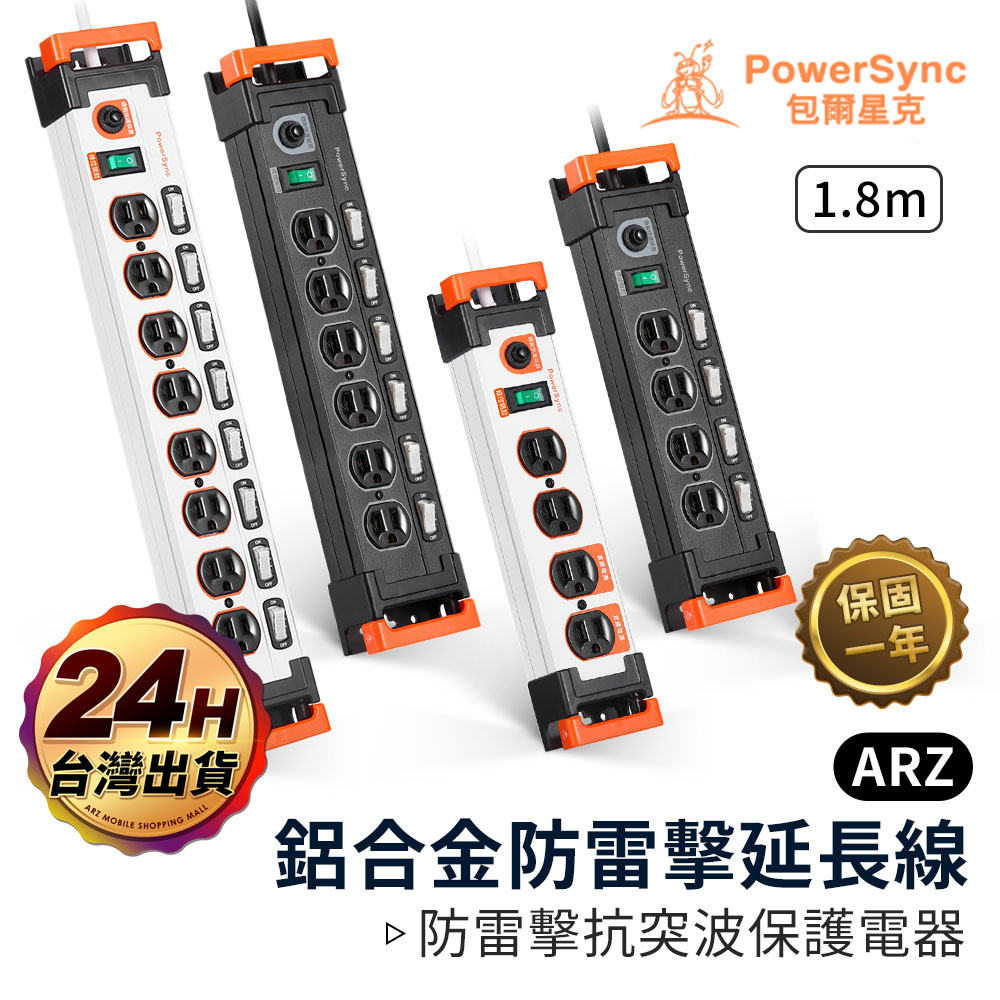socket: (22, 21, 333, 752), (202, 38, 481, 656), (550, 141, 798, 633), (427, 261, 663, 754)
